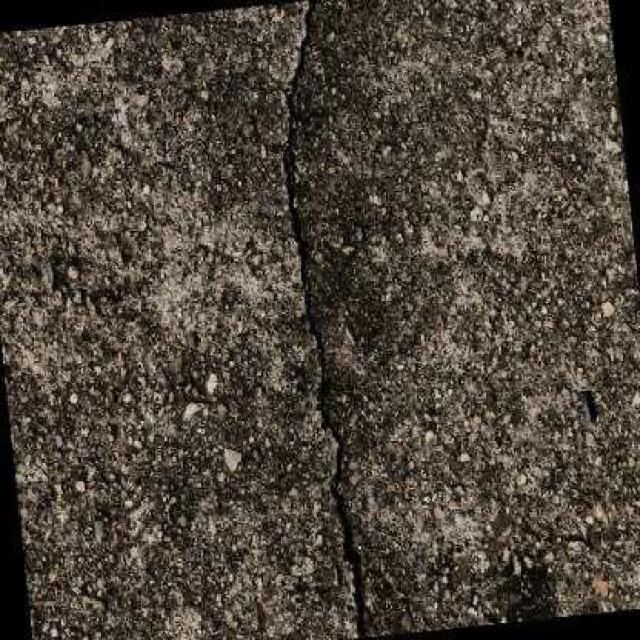D00: (278, 0, 366, 638)
